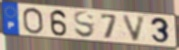3: (150, 16, 172, 45)
6: (49, 8, 69, 37)
7: (99, 13, 119, 40)
O: (22, 7, 45, 35)
S: (72, 11, 97, 40)
V: (121, 14, 148, 43)
